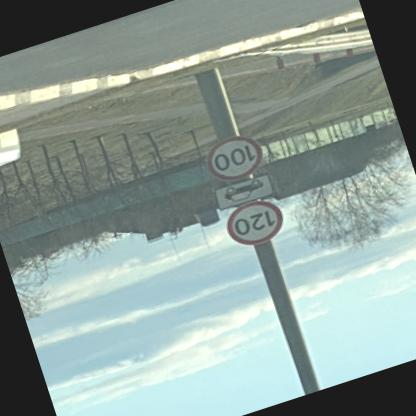speedlimit: (224, 194, 292, 252), (206, 129, 272, 187)
